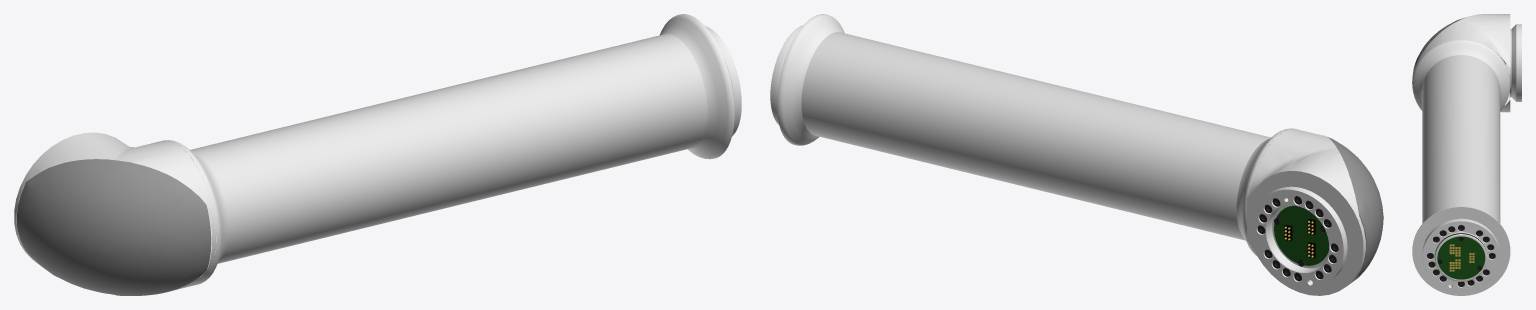
3 views of the same model, side by side, from view 1: azimuth 30°, elevation 25°; view 2: azimuth 150°, elevation 25°; view 3: azimuth 270°, elevation 25° (orthographic). The views are drawn at different scales.
Visible parts, largest first — view 1: L86.001; view 2: L86.001; view 3: L86.001.
Boxes of the visible parts, x1=… form: L86.001: x1=14, y1=14, x2=741, y2=295; L86.001: x1=770, y1=14, x2=1383, y2=295; L86.001: x1=1412, y1=14, x2=1521, y2=295.
Size of the model in its own units: 0.4479 by 0.0861 by 0.0961.
